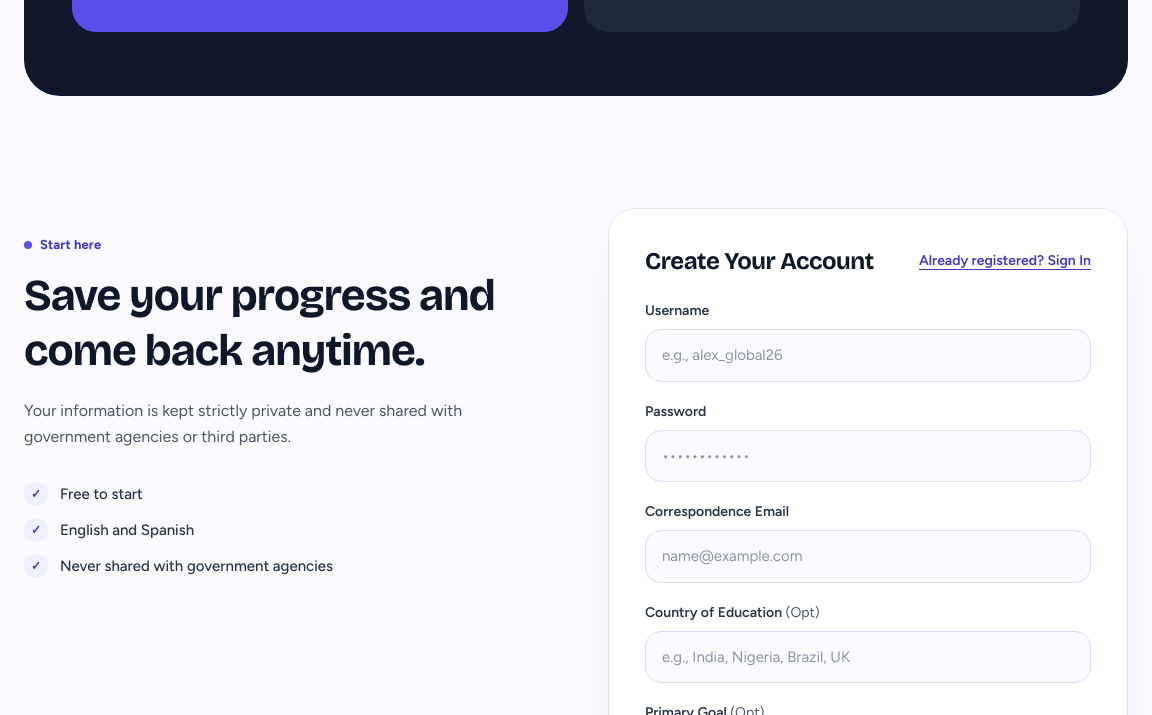
App sign-up — offline path saves country + goal to ge_profile › stores goal in ge_profile after an offline signup
The width and height of the screenshot is (1152, 715).
(page scrolled)
Type "carol" into the field with test id "input-username". click: (868, 355)
box: 645,329 -> 1091,382
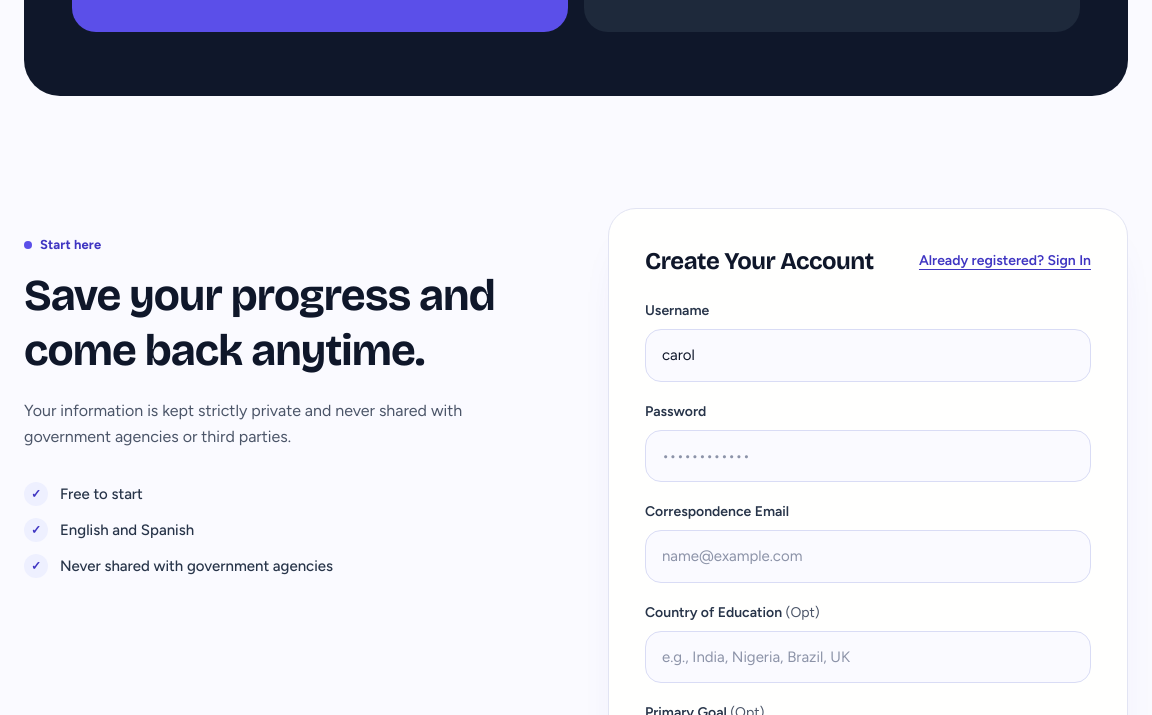
Type "hunter2" into the password field with test id "input-password". click: (868, 456)
box: 645,430 -> 1091,482
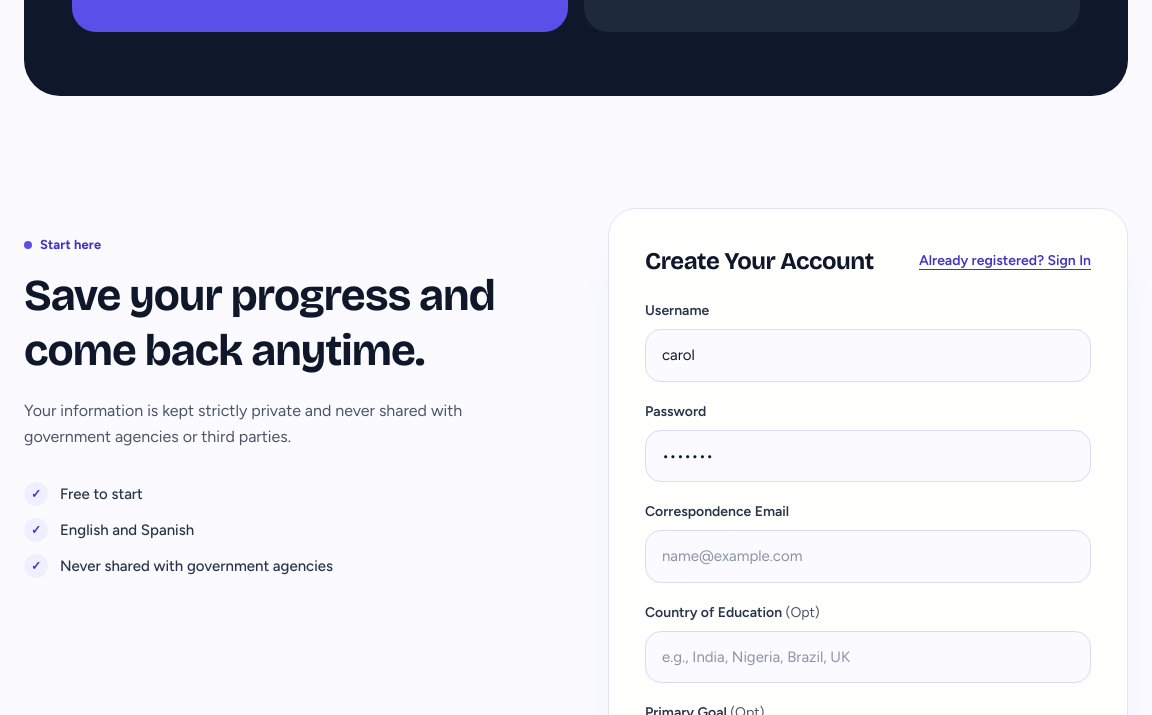
Type "carol@example.com" into the field with test id "input-email". click: (868, 556)
box: 645,530 -> 1091,583
(page scrolled)
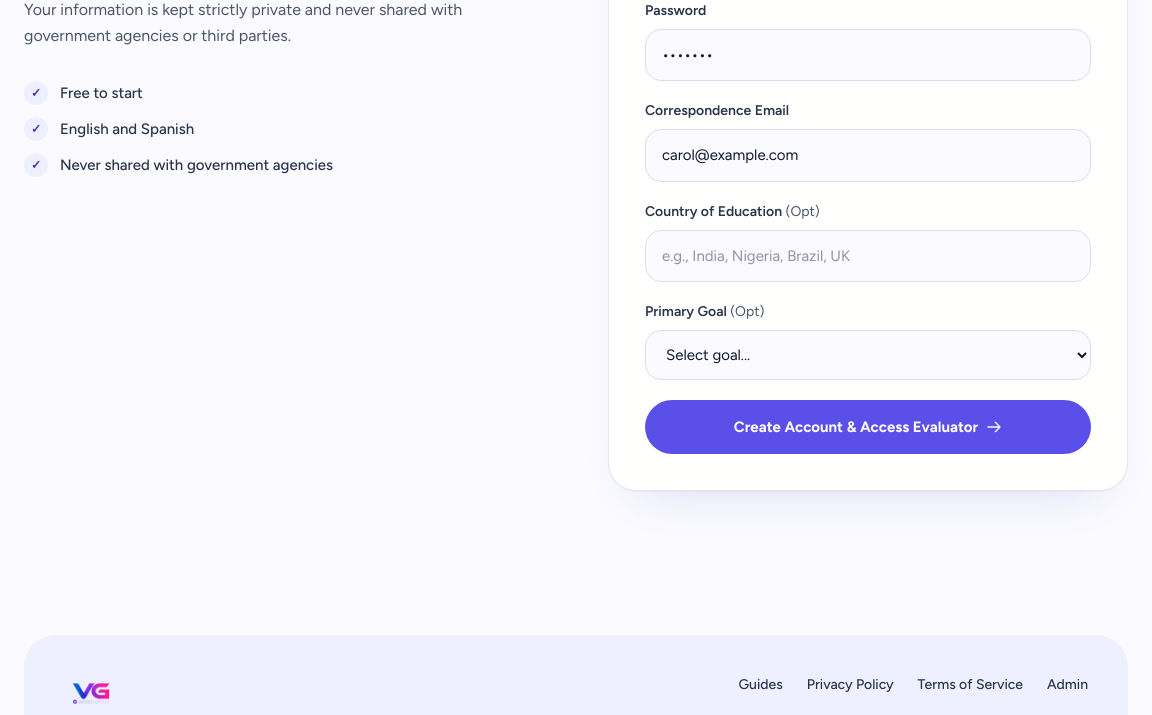
Select "Professional Licensing" in the dropdown with test id "select-signup-goal". click: (868, 355)
box: 645,330 -> 1091,380
(page scrolled)
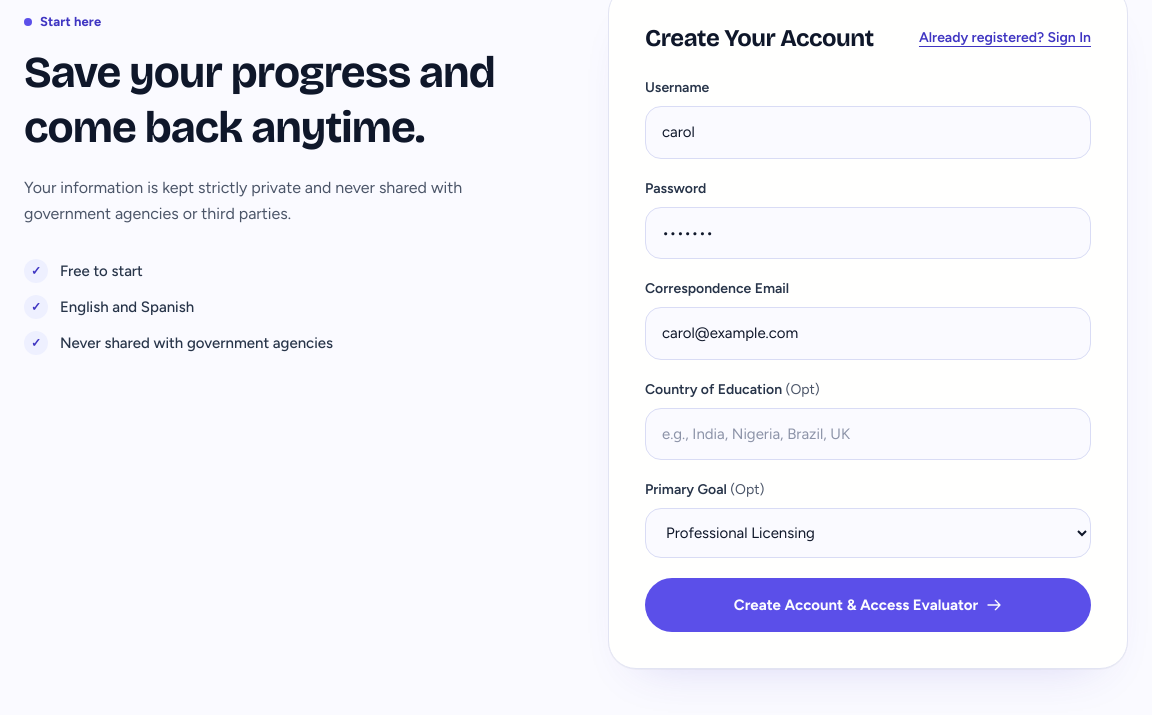
Submit the form with test id "form-auth", box 645,78 -> 1091,632
(page scrolled)
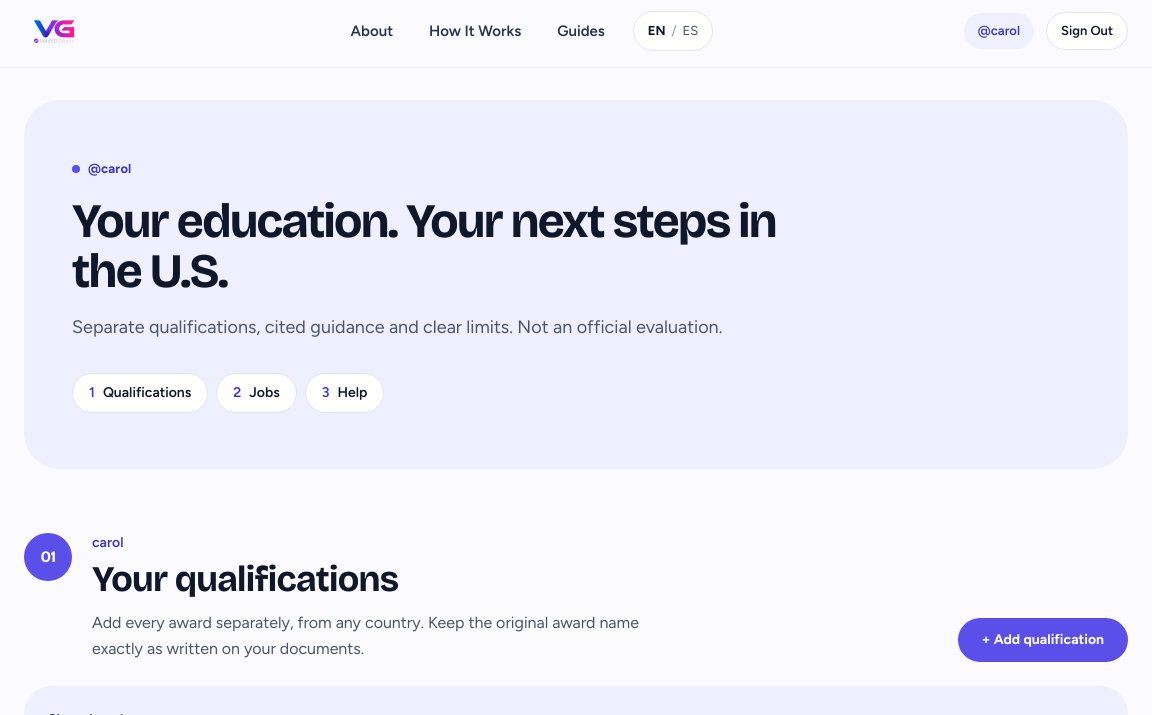
Expected: the element with test id "nav-user-badge" is shown, 964,12 -> 1128,50
